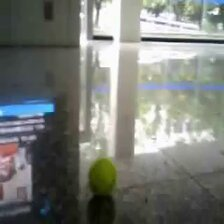tennis: (88, 158, 118, 194)
